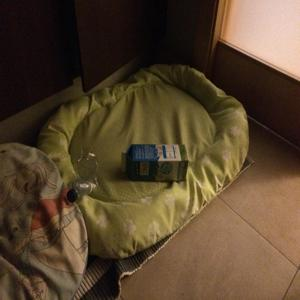cardboard: (113, 137, 191, 186)
plastic: (62, 183, 80, 204)
plastic bottle: (74, 141, 106, 196)
